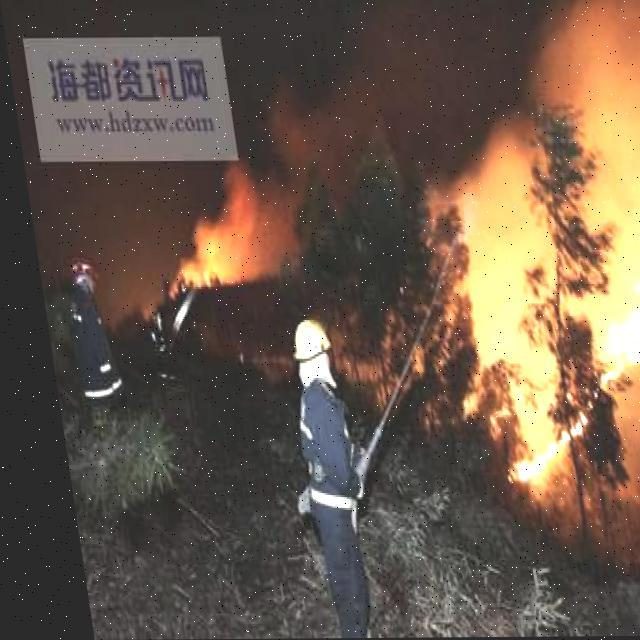Fire: (462, 254, 639, 480), (141, 200, 264, 290)
